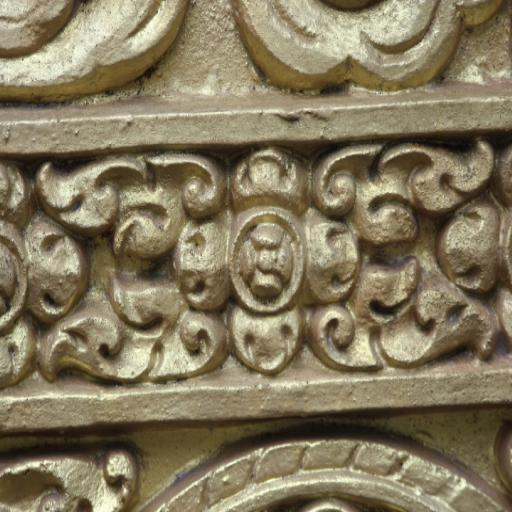hoa: (169, 160, 354, 381)
la: (0, 161, 169, 387), (351, 159, 512, 368)
